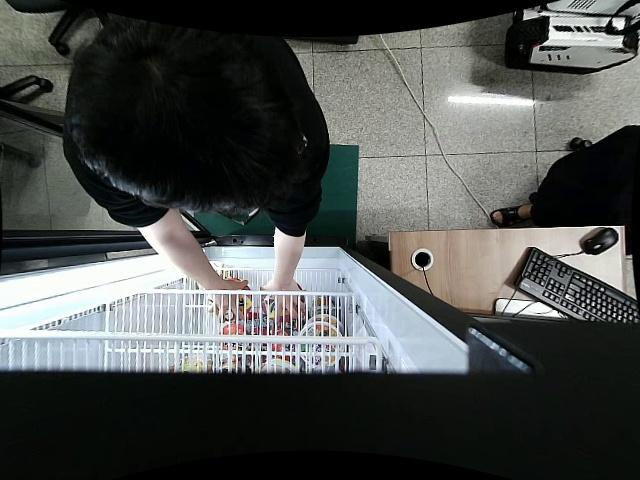00_hand: (261, 281, 307, 324), (208, 279, 250, 321)
05_nuguri_L: (263, 288, 305, 325), (221, 286, 254, 323)
